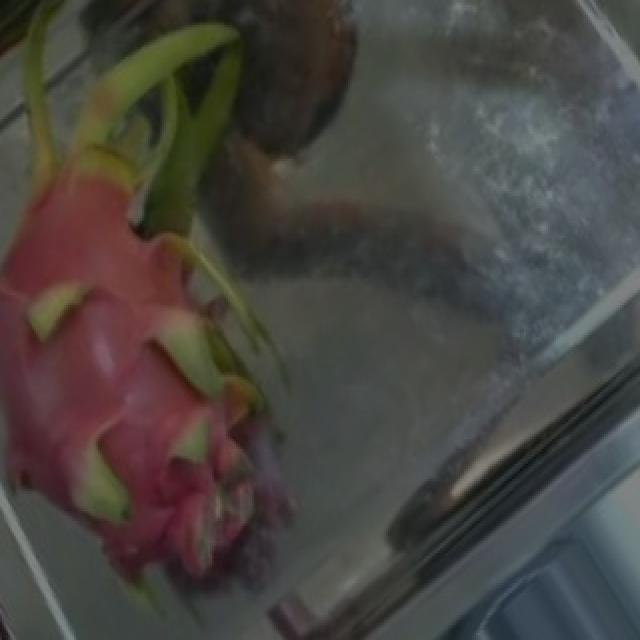fruit: (0, 181, 380, 640), (0, 2, 370, 354)
